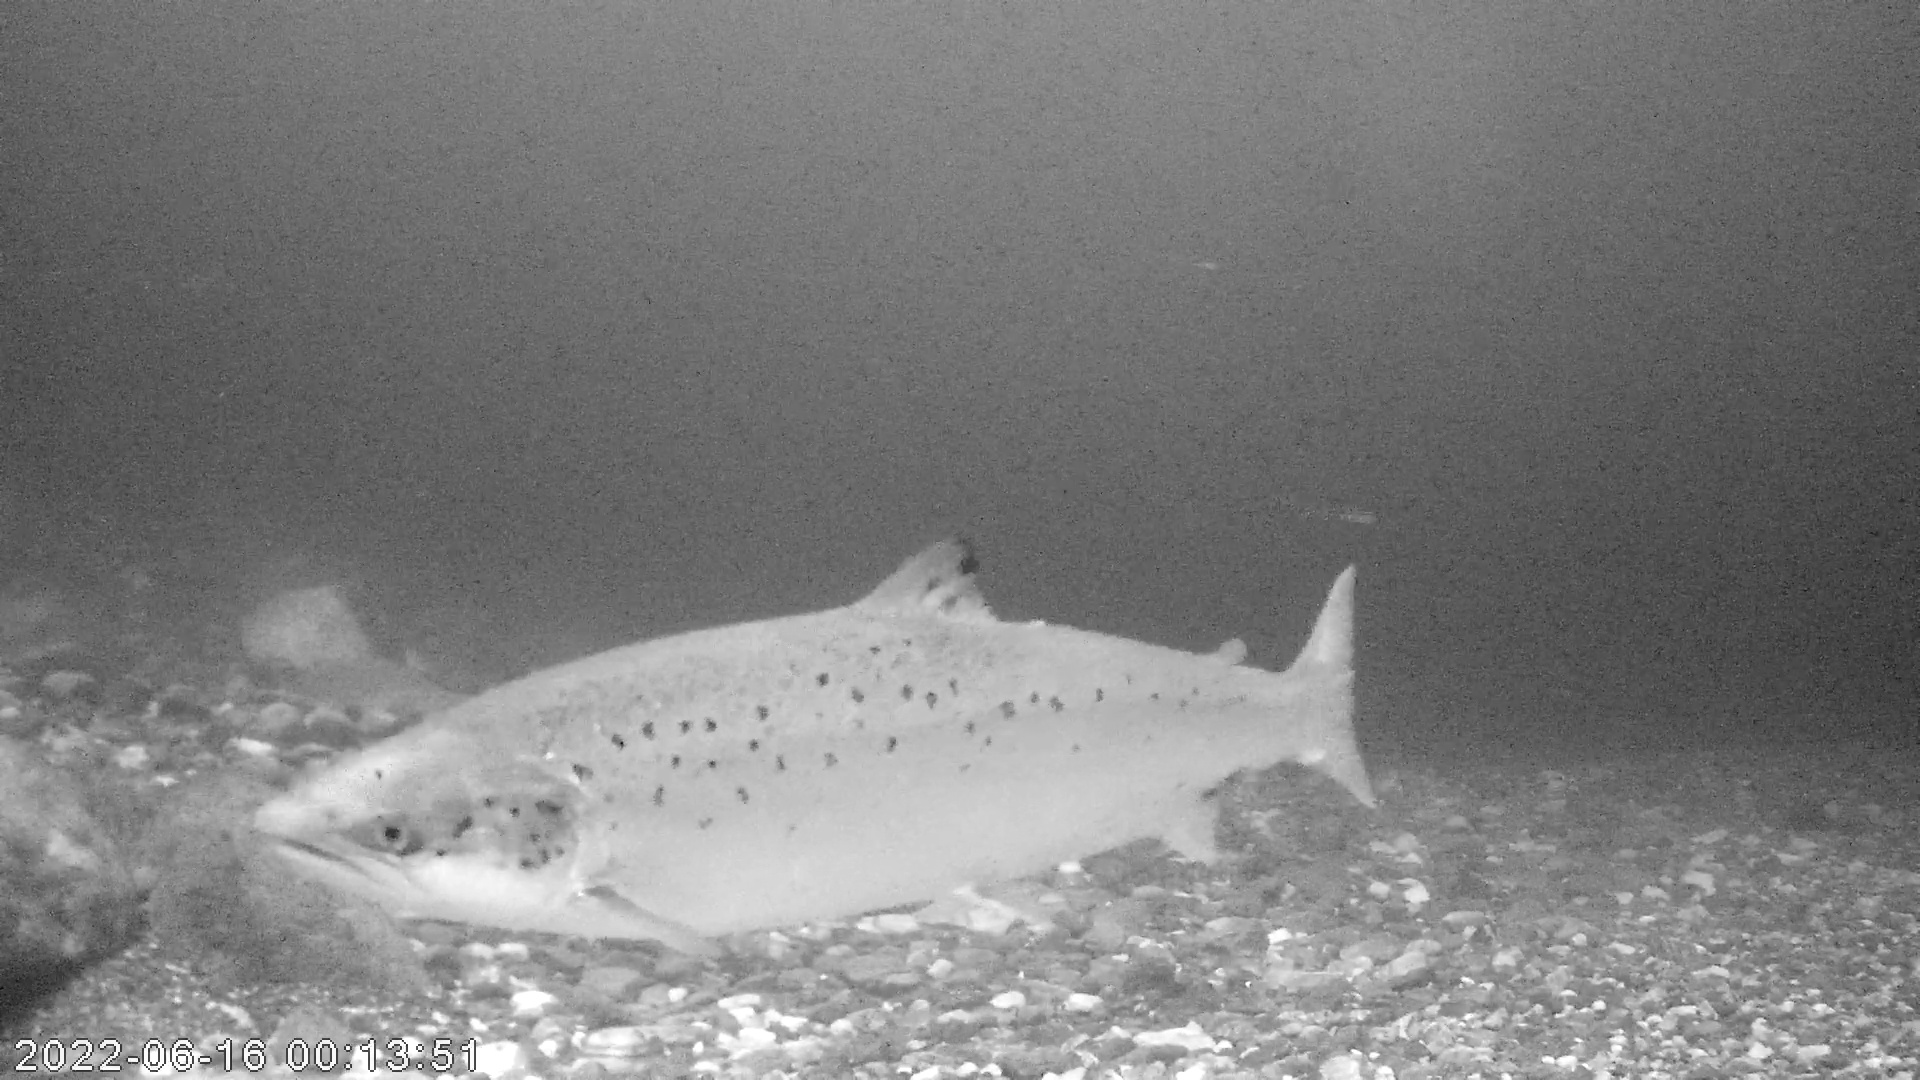salmon: (247, 529, 1385, 957)
